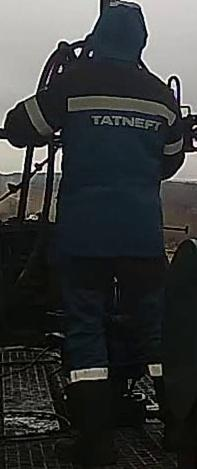vest: (43, 58, 181, 276)
